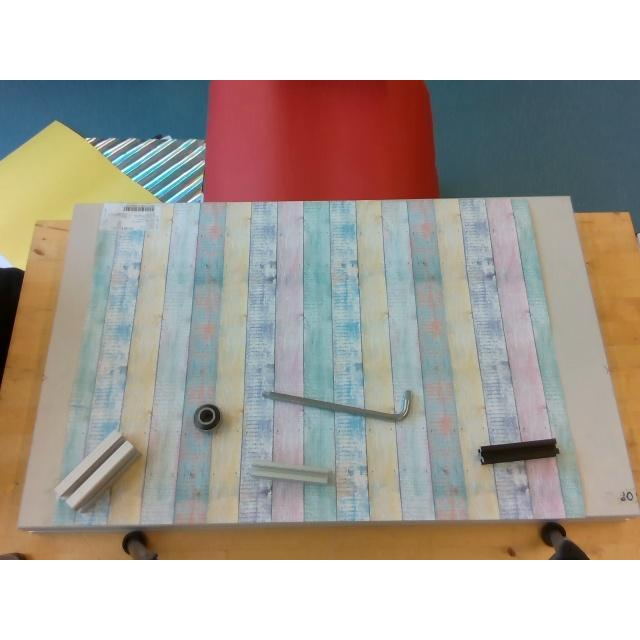AllenKey: (262, 391, 412, 422)
Bearing2: (194, 402, 220, 430)
F20_20_B: (478, 440, 558, 464)
F20_20_G: (252, 459, 332, 483)
S40_40_G: (53, 433, 139, 509)
